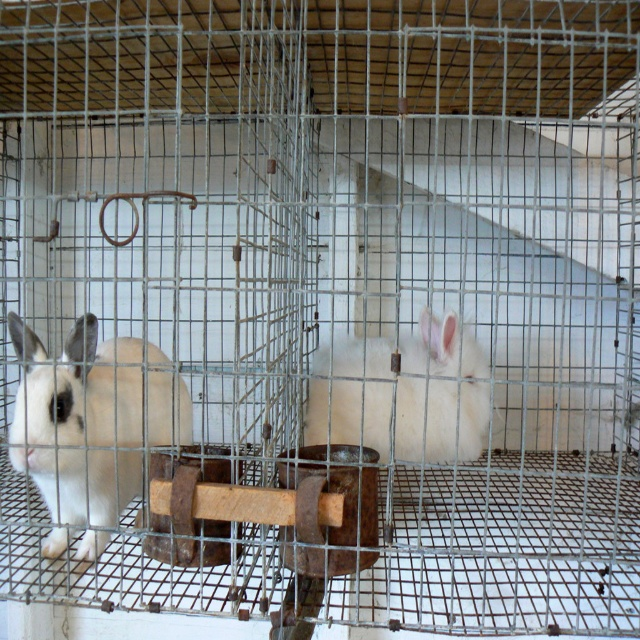Rabbit: (6, 311, 193, 561), (301, 305, 494, 464)
